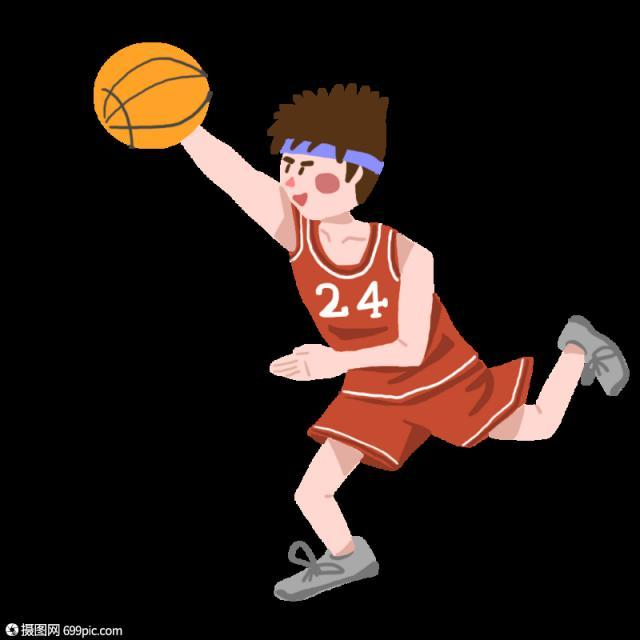rim: (90, 40, 208, 150)
